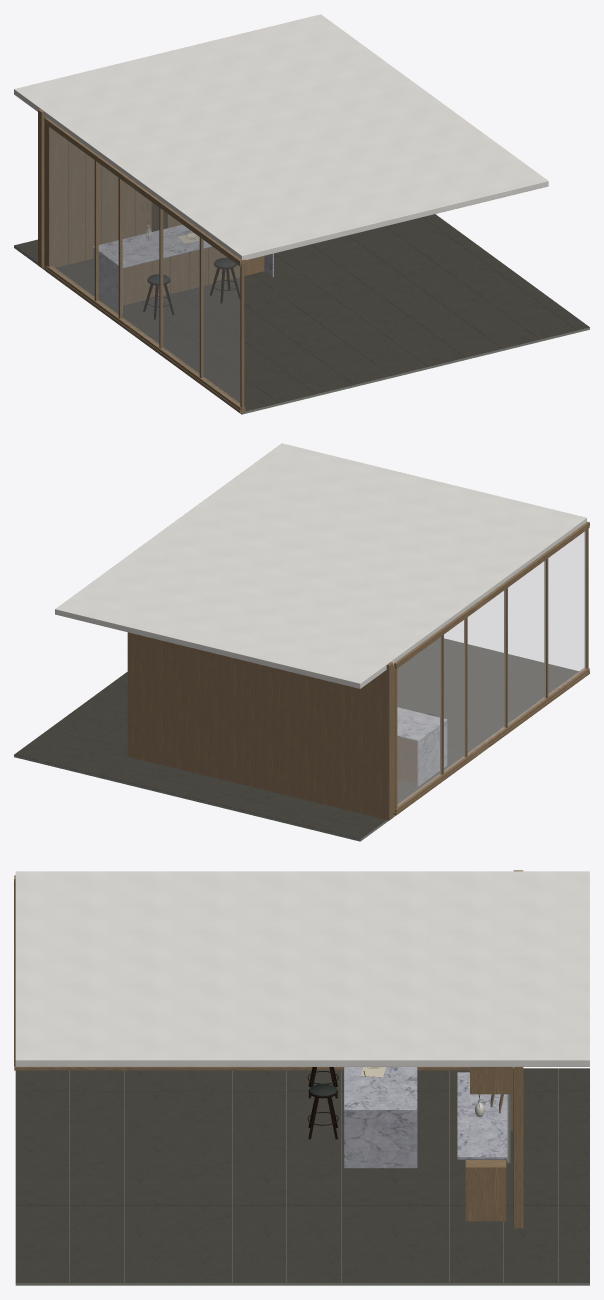
File: room-stage.glb
3 renders of one model, top to bottom at view 1: azimuth 30°, elevation 25°; view 2: azimuth 150°, elevation 25°; view 3: azimuth 270°, elevation 25°, orthographic. The views are drawn at different scales.
Visible parts, largest first — view 1: Ceiling, Stage | PBR | ambientCG Marble012 | gray brown stone floor, Stage | PBR | ambientCG Wood049 | oak, Stage | Window clear glazing, V5.6 window glazing 2.825, V5.6 window glazing 4.425, V5.6 window glazing 1.225, Stage | PBR | ambientCG Marble012 | honed stone, Stage | Fine warm grout, V5.6 window lower rail, V5.6 window ceiling closure, Stage | PBR | ambientCG Wood049 | dark stool (+3 smaller); view 2: Ceiling, Stage | PBR | ambientCG Wood049 | oak, Stage | PBR | ambientCG Marble012 | gray brown stone floor, Stage | Window clear glazing, V5.6 window glazing 1.225, V5.6 window glazing 2.825, V5.6 window glazing 4.425, Stage | PBR | ambientCG Marble012 | honed stone, Stage | Fine warm grout, V5.6 window lower rail, V5.6 window ceiling closure, V5.6 window vertical 4.4 (+2 smaller); view 3: Ceiling, Stage | PBR | ambientCG Marble012 | gray brown stone floor, Stage | PBR | ambientCG Marble012 | honed stone, Stage | PBR | ambientCG Wood049 | oak, Stage | Fine warm grout, V5.6 window floor closure, Stage | PBR | ambientCG Wood049 | dark stool.
Part boxes in pixels (x1,y1,x2,y2): Ceiling: (14,14,548,259); Stage | PBR | ambientCG Marble012 | gray brown stone floor: (14,214,589,411); Stage | PBR | ambientCG Wood049 | oak: (38,109,264,324); Stage | Window clear glazing: (50,128,118,315); V5.6 window glazing 2.825: (162,210,199,375); V5.6 window glazing 4.425: (202,239,239,404); V5.6 window glazing 1.225: (121,180,158,345); Stage | PBR | ambientCG Marble012 | honed stone: (93,224,273,313); Stage | Fine warm grout: (14,246,589,414); V5.6 window lower rail: (119,318,244,410); V5.6 window ceiling closure: (119,171,245,264); Stage | PBR | ambientCG Wood049 | dark stool: (143,262,240,319); Ceiling: (55,443,586,688); Stage | PBR | ambientCG Wood049 | oak: (127,610,470,820); Stage | PBR | ambientCG Marble012 | gray brown stone floor: (14,638,578,839); Stage | Window clear glazing: (397,619,465,806); V5.6 window glazing 1.225: (468,590,505,754); V5.6 window glazing 2.825: (508,560,545,725); V5.6 window glazing 4.425: (548,531,585,695); Stage | PBR | ambientCG Marble012 | honed stone: (397,707,447,786); Stage | Fine warm grout: (14,755,395,841); V5.6 window lower rail: (467,668,589,758); V5.6 window ceiling closure: (467,521,589,613); V5.6 window vertical 4.4: (544,558,548,698); Ceiling: (15,871,589,1066); Stage | PBR | ambientCG Marble012 | gray brown stone floor: (15,1068,589,1282); Stage | PBR | ambientCG Marble012 | honed stone: (344,1067,507,1168); Stage | PBR | ambientCG Wood049 | oak: (318,870,523,1228); Stage | Fine warm grout: (15,1069,589,1285); V5.6 window floor closure: (14,1067,319,1070); Stage | PBR | ambientCG Wood049 | dark stool: (308,1067,337,1139).
Size of the model in its own units: 8 by 3.46 by 9.03.
Materials: 25 (9 with a texture image).
